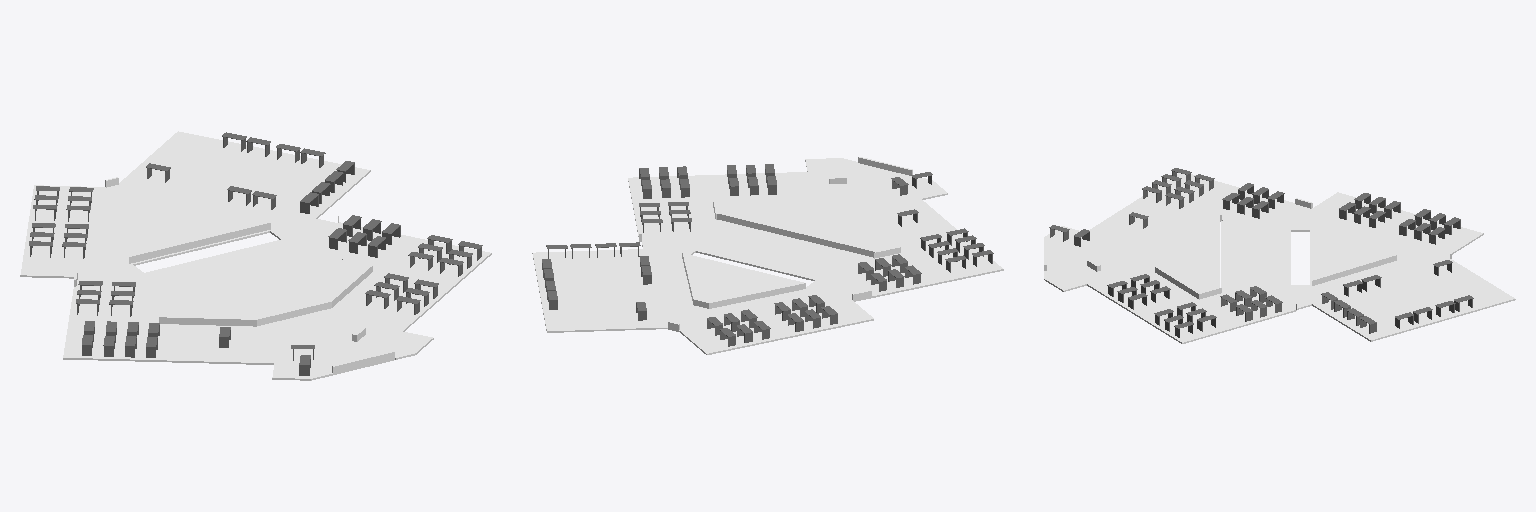
URDF robot description (Plano_completo):
<?xml version="1.0" encoding="utf-8"?>
<!-- This URDF was automatically created by SolidWorks to URDF Exporter! Originally created by [author] ([email redacted]) 
     Commit Version: 1.5.1-0-g916b5db  Build Version: 1.5.7152.31018
     For more information, please see http://wiki.ros.org/sw_urdf_exporter -->
<robot
  name="Plano_completo">
<gazebo reference="Escritorios"> <material>Gazebo/Black</material> </gazebo>
<gazebo reference="Sillas"> <material>Gazebo/DarkGrey</material> </gazebo>
<gazebo reference="Paredes"> <material>Gazebo/Gold</material> </gazebo>
<gazebo reference="Plano"> <material>Gazebo/WoodFloor</material> </gazebo>
  <link
    name="Plano">
    <inertial>
      <origin
        xyz="-8.3854 -17.882 0.15443"
        rpy="0 0 0" />
      <mass
        value="105650" />
      <inertia
        ixx="4346000"
        ixy="-517600"
        ixz="3.3972E-11"
        iyy="3034000"
        iyz="2.6578E-10"
        izz="7377500" />
    </inertial>
    <visual>
      <origin
        xyz="0 0 0"
        rpy="0 0 0" />
      <geometry>
        <mesh
          filename="package://Plano_completo/meshes/Plano.STL" />
      </geometry>
      <material
        name="">
        <color
          rgba="1 1 1 1" />
      </material>
    </visual>
    <collision>
      <origin
        xyz="0 0 0"
        rpy="0 0 0" />
      <geometry>
        <mesh
          filename="package://Plano_completo/meshes/Plano.STL" />
      </geometry>
    </collision>
  </link>
  <link
    name="Paredes">
    <inertial>
      <origin
        xyz="-8.3349 1.62 17.279"
        rpy="0 0 0" />
      <mass
        value="107000" />
      <inertia
        ixx="1884400"
        ixy="7.7823E-11"
        ixz="-46224"
        iyy="2975100"
        iyz="1.8852E-10"
        izz="1251200" />
    </inertial>
    <visual>
      <origin
        xyz="0 0 0"
        rpy="0 0 0" />
      <geometry>
        <mesh
          filename="package://Plano_completo/meshes/Paredes.STL" />
      </geometry>
      <material
        name="">
        <color
          rgba="0.79216 0.81961 0.93333 1" />
      </material>
    </visual>
    <collision>
      <origin
        xyz="0 0 0"
        rpy="0 0 0" />
      <geometry>
        <mesh
          filename="package://Plano_completo/meshes/Paredes.STL" />
      </geometry>
    </collision>
  </link>
  <joint
    name="paredes"
    type="fixed">
    <origin
      xyz="0 0 0"
      rpy="1.5708 0 0" />
    <parent
      link="Plano" />
    <child
      link="Paredes" />
    <axis
      xyz="0 0 0" />
  </joint>
  <link
    name="Mural">
    <inertial>
      <origin
        xyz="-8.9134 1.62 20.733"
        rpy="0 0 0" />
      <mass
        value="5472" />
      <inertia
        ixx="4114.2"
        ixy="-4.1685E-13"
        ixz="1.7823E-13"
        iyy="67436"
        iyz="-1.125E-14"
        izz="71530" />
    </inertial>
    <visual>
      <origin
        xyz="0 0 0"
        rpy="0 0 0" />
      <geometry>
        <mesh
          filename="package://Plano_completo/meshes/Mural.STL" />
      </geometry>
      <material
        name="">
        <color
          rgba="0.79216 0.81961 0.93333 1" />
      </material>
    </visual>
    <collision>
      <origin
        xyz="0 0 0"
        rpy="0 0 0" />
      <geometry>
        <mesh
          filename="package://Plano_completo/meshes/Mural.STL" />
      </geometry>
    </collision>
  </link>
  <joint
    name="mural"
    type="fixed">
    <origin
      xyz="0 0 0"
      rpy="1.5708 0 0" />
    <parent
      link="Plano" />
    <child
      link="Mural" />
    <axis
      xyz="0 0 0" />
  </joint>
  <link
    name="Escritorios">
    <inertial>
      <origin
        xyz="-10.707 0.47408 -8.1647"
        rpy="0 0 0" />
      <mass
        value="3550.8" />
      <inertia
        ixx="657.62"
        ixy="-0.022414"
        ixz="-47.949"
        iyy="1117.1"
        iyz="-0.11306"
        izz="898.95" />
    </inertial>
    <visual>
      <origin
        xyz="0 0 0"
        rpy="0 0 0" />
      <geometry>
        <mesh
          filename="package://Plano_completo/meshes/Escritorios.STL" />
      </geometry>
      <material
        name="">
        <color
          rgba="0.50196 0.50196 0.50196 1" />
      </material>
    </visual>
    <collision>
      <origin
        xyz="0 0 0"
        rpy="0 0 0" />
      <geometry>
        <mesh
          filename="package://Plano_completo/meshes/Escritorios.STL" />
      </geometry>
    </collision>
  </link>
  <joint
    name="escritorios"
    type="fixed">
    <origin
      xyz="-12.545 -4.4084 0.12"
      rpy="1.5708 0 2.5542" />
    <parent
      link="Plano" />
    <child
      link="Escritorios" />
    <axis
      xyz="0 0 0" />
  </joint>
  <link
    name="Botes">
    <inertial>
      <origin
        xyz="-10.202 0.22186 -2.4696"
        rpy="0 0 0" />
      <mass
        value="153.93" />
      <inertia
        ixx="2.7418"
        ixy="-4.4646E-15"
        ixz="0.035271"
        iyy="1.7594"
        iyz="-1.5194E-14"
        izz="2.4648" />
    </inertial>
    <visual>
      <origin
        xyz="0 0 0"
        rpy="0 0 0" />
      <geometry>
        <mesh
          filename="package://Plano_completo/meshes/Botes.STL" />
      </geometry>
      <material
        name="">
        <color
          rgba="1 1 1 1" />
      </material>
    </visual>
    <collision>
      <origin
        xyz="0 0 0"
        rpy="0 0 0" />
      <geometry>
        <mesh
          filename="package://Plano_completo/meshes/Botes.STL" />
      </geometry>
    </collision>
  </link>
  <joint
    name="botes"
    type="fixed">
    <origin
      xyz="-17.972 -26.151 0.12"
      rpy="1.5708 0 -2.1582" />
    <parent
      link="Plano" />
    <child
      link="Botes" />
    <axis
      xyz="0 0 0" />
  </joint>
  <link
    name="Sillas">
    <inertial>
      <origin
        xyz="-0.0073732 0.43773 -11.581"
        rpy="0 0 0" />
      <mass
        value="1450.5" />
      <inertia
        ixx="90.302"
        ixy="-1.1843"
        ixz="-0.05479"
        iyy="81.702"
        iyz="-4.9625"
        izz="90.711" />
    </inertial>
    <visual>
      <origin
        xyz="0 0 0"
        rpy="0 0 0" />
      <geometry>
        <mesh
          filename="package://Plano_completo/meshes/Sillas.STL" />
      </geometry>
      <material
        name="">
        <color
          rgba="0.25098 0.25098 0.25098 1" />
      </material>
    </visual>
    <collision>
      <origin
        xyz="0 0 0"
        rpy="0 0 0" />
      <geometry>
        <mesh
          filename="package://Plano_completo/meshes/Sillas.STL" />
      </geometry>
    </collision>
  </link>
  <joint
    name="sillas"
    type="fixed">
    <origin
      xyz="-14.639 -26.537 0.12"
      rpy="1.5708 0 -0.6024" />
    <parent
      link="Plano" />
    <child
      link="Sillas" />
    <axis
      xyz="0 0 0" />
  </joint>
</robot>

--- What the picture shows (computed from the rendered views, not written in the file) ---
Views: 3 orthographic renders of the robot side by side, from view 1: azimuth 30°, elevation 25°; view 2: azimuth 150°, elevation 25°; view 3: azimuth 270°, elevation 25°.
Robot: Plano_completo — 6 links, 5 joints (5 fixed); root link Plano; default pose: all joints at 0.
Links seen in each view (by area): view 1: Plano, Escritorios; view 2: Plano, Escritorios; view 3: Plano, Escritorios.
Link boxes in pixels (x1,y1,x2,y2): Plano: (20, 131, 491, 380); Escritorios: (29, 132, 482, 375); Plano: (532, 157, 1003, 354); Escritorios: (542, 164, 993, 346); Plano: (1044, 173, 1515, 343); Escritorios: (1049, 168, 1473, 337).
Bounding box of the posed robot: 28.85 × 33.46 × 0.8896 m (x, y, z).
Meshes: 6 distinct files referenced, 2 mesh visuals loaded (2 binary STL); not drawn: 4 (reference not matched to a file when rendering).